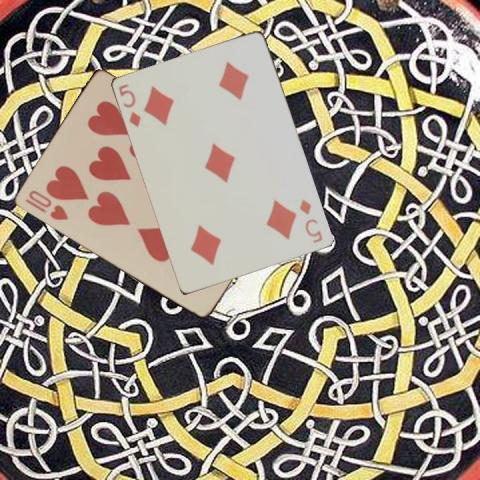10h: (21, 187, 70, 222)
5d: (296, 196, 324, 244), (115, 80, 143, 128)
